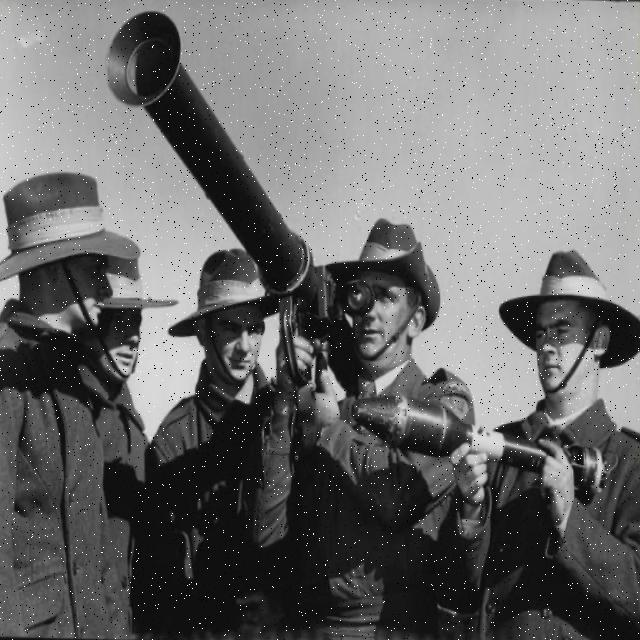bazooka: (93, 11, 374, 372)
